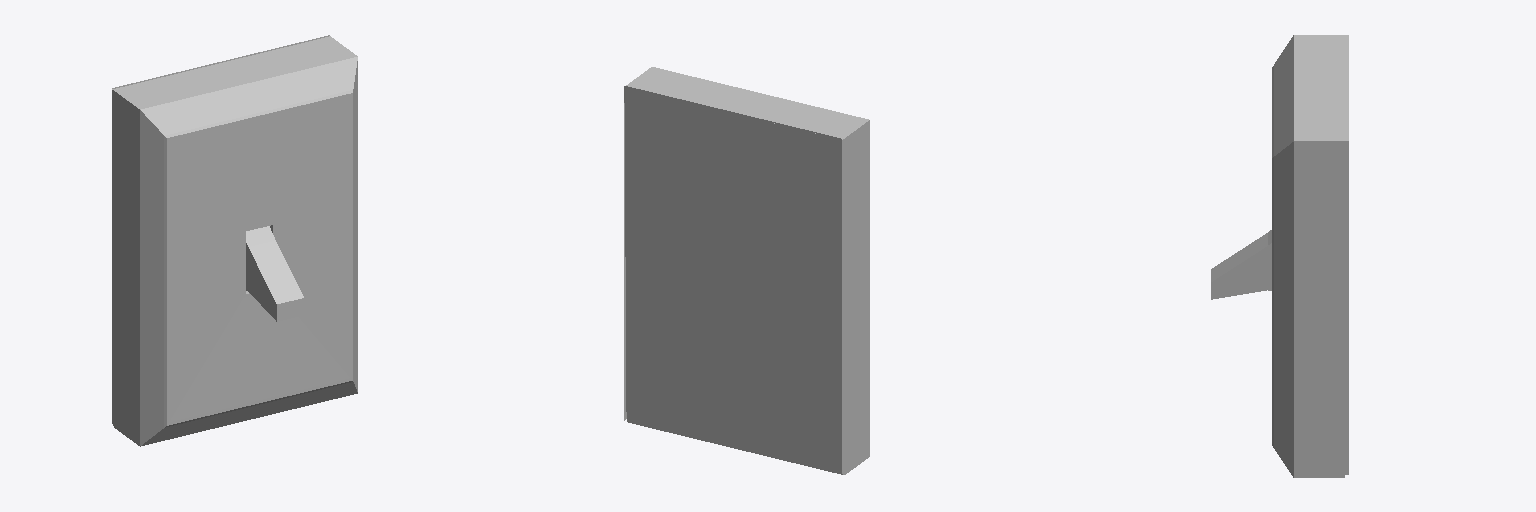
The model's file is switch.obj.
The picture shows the model from 3 angles: view 1: azimuth 30°, elevation 25°; view 2: azimuth 150°, elevation 25°; view 3: azimuth 270°, elevation 25°; orthographic projection.
Parts seen in each view (by area): view 1: Interruptor_Untitled.001; view 2: Interruptor_Untitled.001; view 3: Interruptor_Untitled.001.
Part boxes in pixels (x1,y1,x2,y2): Interruptor_Untitled.001: (112, 35, 357, 446); Interruptor_Untitled.001: (624, 67, 869, 474); Interruptor_Untitled.001: (1211, 35, 1348, 477).
Bounding box in the file's own units: 0.1935 × 0.2868 × 0.1063.